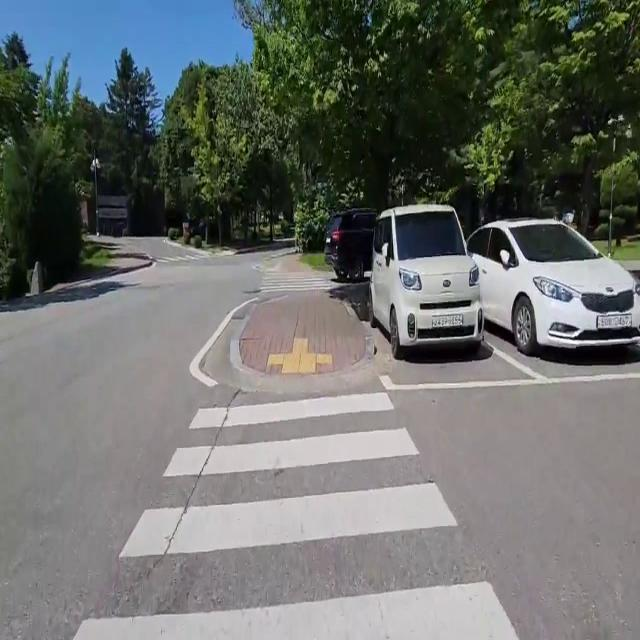car: (463, 202, 640, 385), (367, 201, 488, 351), (323, 198, 403, 297)
streetlamp: (80, 142, 108, 242)
